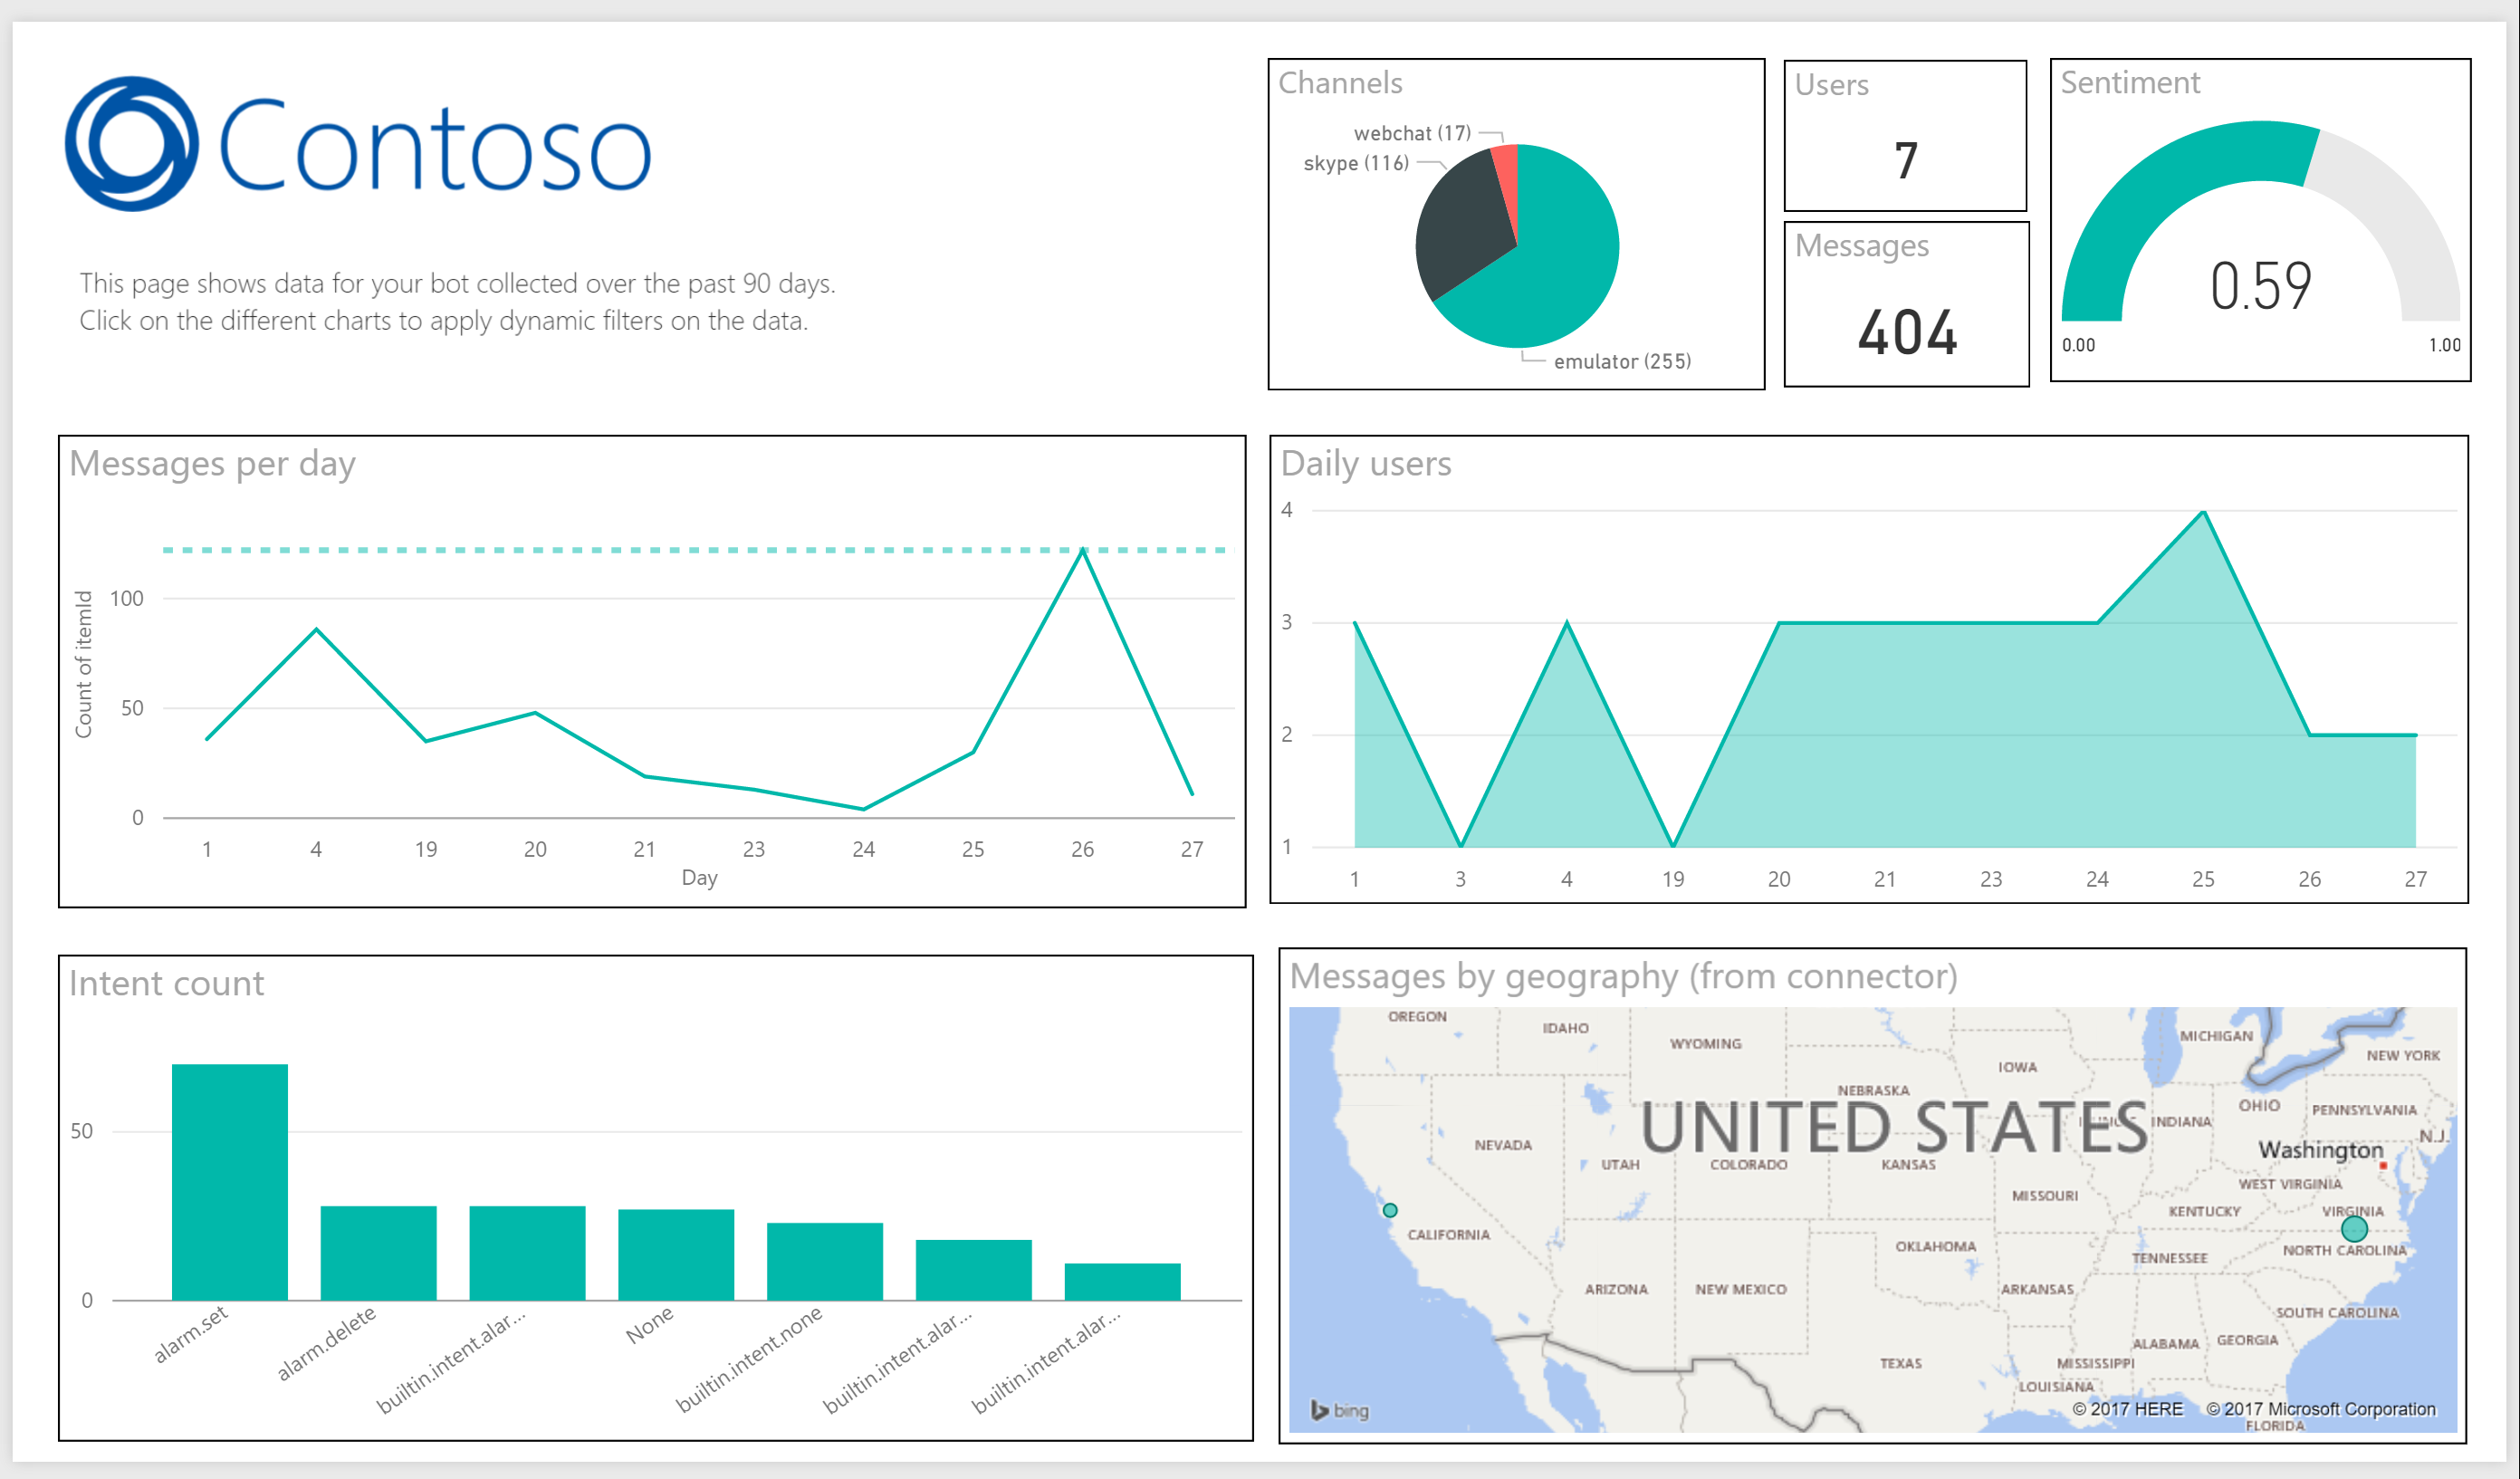

Layout of this report page (visuals, bound fields, positions):
{"tool":"powerbi","page":{"name":"Overview","canvas":[1280,720],"ordinal":0},"visuals":[{"type":"lineChart","fields":{"Y":["Count(Bot Events.itemId)"],"Category":["Bot Events.timestamp.Variation.Date Hierarchy.Year","Bot Events.timestamp.Variation.Date Hierarchy.Quarter","Bot Events.timestamp.Variation.Date Hierarchy.Month","Bot Events.timestamp.Variation.Date Hierarchy.Day"]},"box":[23.4,193.4,610.6,243.3],"z":0},{"type":"pieChart","fields":{"Category":["Bot Events.customDimensions.channel"],"Y":["CountNonNull(Bot Events.itemId)"]},"box":[643.8,0,256.9,171],"z":1},{"type":"columnChart","fields":{"Category":["Bot Events.customDimensions.intent"],"Y":["CountNonNull(Bot Events.itemId)"]},"box":[23.4,460.1,614.5,250.1],"z":3},{"type":"map","fields":{"Category":["Bot Events.client_City"],"Size":["CountNonNull(Bot Events.itemId)"]},"box":[649.7,456.2,610.6,255],"z":4},{"type":"gauge","fields":{"Y":["Avg(Bot Events.customDimensions.score)"]},"box":[1046.2,0,217,165.3],"z":5},{"type":"image","box":[21.5,0,312.6,87.9],"z":6},{"type":"card","fields":{"Values":["Count(Bot Events.customDimensions.userId)"]},"box":[909.3,1.3,125.3,77.5],"z":7},{"type":"card","fields":{"Values":["Count(Bot Events.itemId)"]},"box":[909.4,84.1,126.7,85.3],"z":8},{"type":"areaChart","fields":{"Category":["Bot Events.timestamp.Variation.Date Hierarchy.Year","Bot Events.timestamp.Variation.Date Hierarchy.Quarter","Bot Events.timestamp.Variation.Date Hierarchy.Month","Bot Events.timestamp.Variation.Date Hierarchy.Day"],"Y":["Count(Bot Events.customDimensions.userId)"]},"box":[644.8,193.4,616.4,240.3],"z":9},{"type":"textbox","box":[30.2,100.4,468.6,67.2],"z":10}]}

Visuals, with their boxes on the page's 1280x720 design canvas (x1, y1, x2, y2). These are canvas units, not pixel positions in the 2520x1479 screenshot, which may show the page scaled, cropped or inside an application window:
lineChart - Count(Bot Events.itemId) x Bot Events.timestamp.Variation.Date Hierarchy.Year: {"x1": 23, "y1": 193, "x2": 634, "y2": 437}
pieChart - Bot Events.customDimensions.channel x CountNonNull(Bot Events.itemId): {"x1": 644, "y1": 0, "x2": 901, "y2": 171}
columnChart - Bot Events.customDimensions.intent x CountNonNull(Bot Events.itemId): {"x1": 23, "y1": 460, "x2": 638, "y2": 710}
map - Bot Events.client_City x CountNonNull(Bot Events.itemId): {"x1": 650, "y1": 456, "x2": 1260, "y2": 711}
gauge - Avg(Bot Events.customDimensions.score): {"x1": 1046, "y1": 0, "x2": 1263, "y2": 165}
image: {"x1": 22, "y1": 0, "x2": 334, "y2": 88}
card - Count(Bot Events.customDimensions.userId): {"x1": 909, "y1": 1, "x2": 1035, "y2": 79}
card - Count(Bot Events.itemId): {"x1": 909, "y1": 84, "x2": 1036, "y2": 169}
areaChart - Bot Events.timestamp.Variation.Date Hierarchy.Year x Bot Events.timestamp.Variation.Date Hierarchy.Quarter: {"x1": 645, "y1": 193, "x2": 1261, "y2": 434}
textbox: {"x1": 30, "y1": 100, "x2": 499, "y2": 168}
